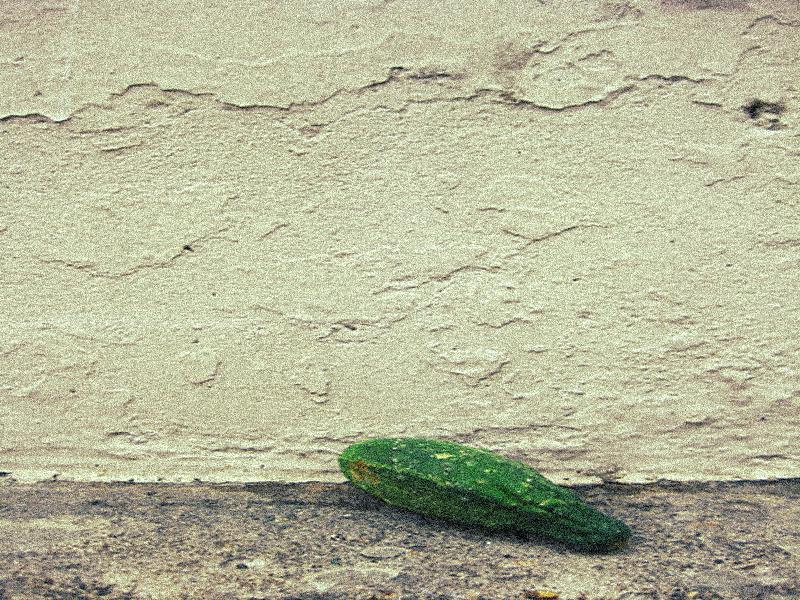Cucumber: (338, 437, 626, 550)
